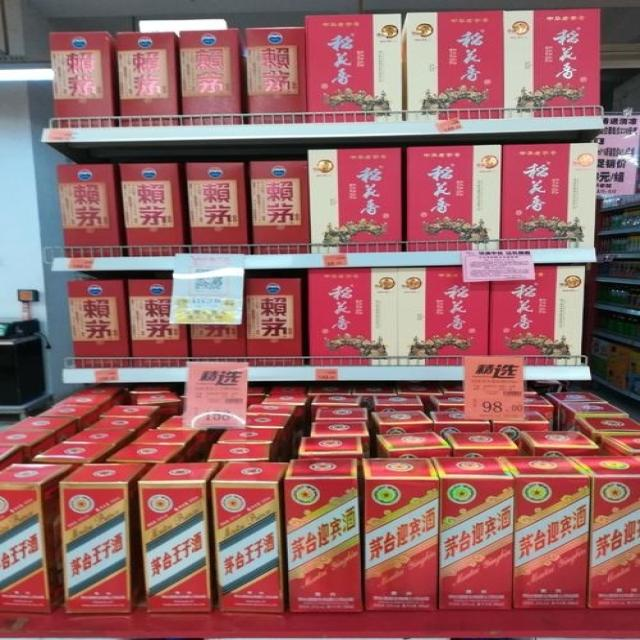box: (499, 456, 591, 608), (430, 457, 515, 609), (60, 463, 146, 613), (285, 459, 363, 612), (139, 463, 219, 612), (211, 461, 289, 613), (362, 458, 439, 610), (402, 10, 504, 121), (0, 463, 72, 614), (503, 9, 600, 118), (306, 14, 402, 123), (569, 455, 637, 608), (502, 144, 597, 249), (407, 145, 501, 251), (308, 148, 401, 253), (489, 266, 585, 365), (398, 267, 489, 366), (309, 268, 398, 366), (49, 31, 121, 128), (180, 29, 248, 125), (117, 31, 182, 127), (57, 164, 122, 258), (119, 163, 184, 256), (246, 27, 307, 124), (187, 163, 248, 256), (250, 161, 309, 255), (68, 280, 131, 368), (130, 279, 188, 367), (246, 279, 302, 366), (190, 312, 247, 356), (546, 392, 607, 431), (492, 411, 550, 448), (517, 431, 600, 456), (106, 445, 184, 471), (376, 431, 451, 458), (560, 401, 628, 430), (8, 417, 79, 444), (0, 429, 56, 462), (443, 432, 518, 456), (32, 442, 116, 463), (207, 442, 269, 470), (430, 411, 492, 439), (575, 417, 639, 444), (38, 406, 99, 432), (298, 436, 364, 459), (371, 410, 434, 434), (311, 395, 362, 421), (131, 428, 200, 445), (524, 396, 553, 432), (216, 427, 278, 443), (64, 430, 134, 444), (600, 431, 639, 455), (311, 421, 368, 436), (316, 406, 367, 422), (84, 418, 150, 430), (374, 395, 423, 411), (99, 406, 161, 418), (246, 414, 292, 429), (0, 445, 25, 472), (54, 395, 111, 406), (136, 392, 182, 405), (248, 404, 297, 415), (72, 387, 128, 396), (430, 396, 464, 410), (262, 394, 308, 404), (158, 416, 184, 429)
